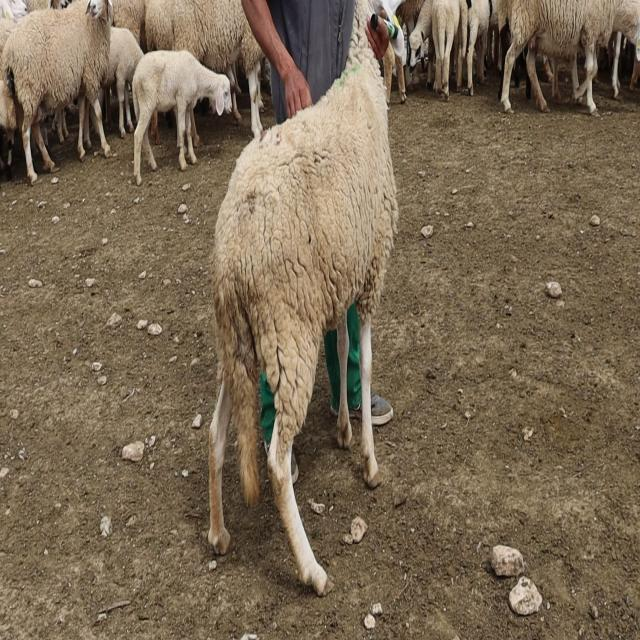Score_1: (208, 0, 398, 595)
